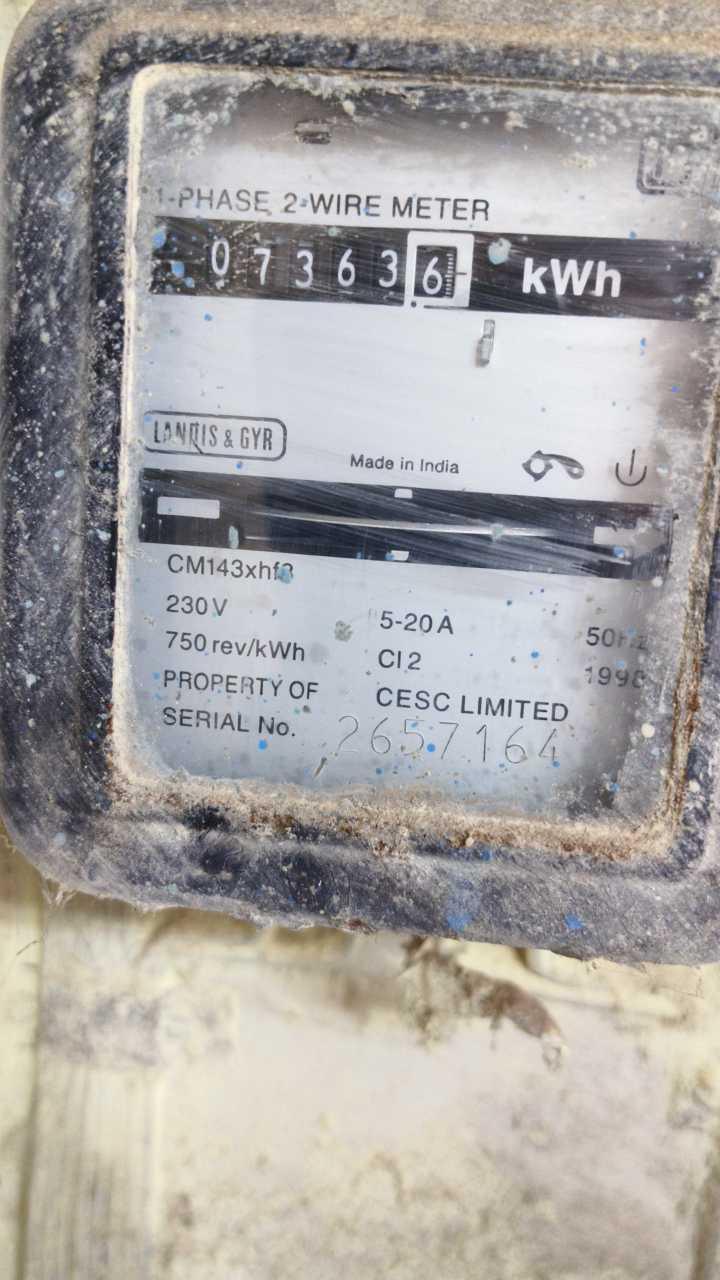meter_readings: (203, 223, 470, 306)
serial_number: (325, 715, 568, 767)
